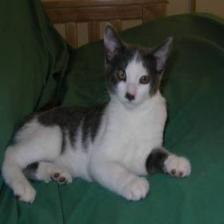cat: (101, 23, 178, 114)
